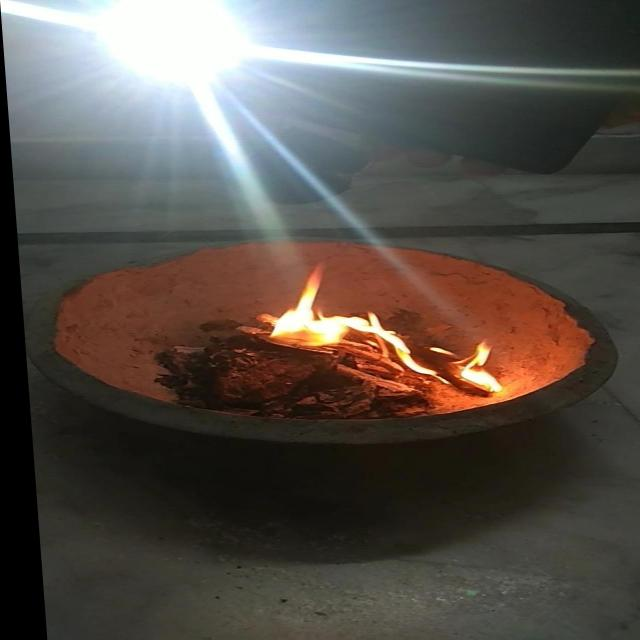fire: (244, 265, 506, 393)
